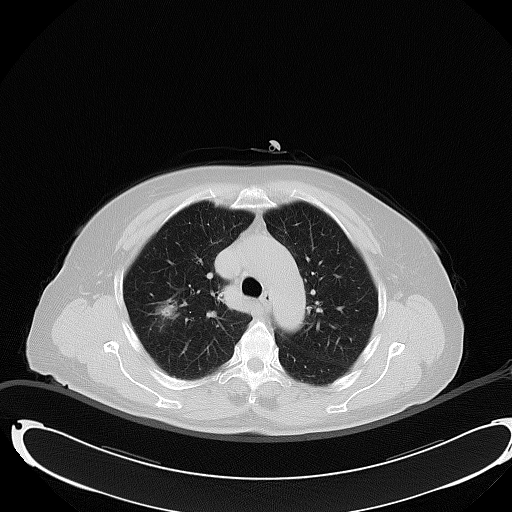nodule: (154, 298, 179, 319)
